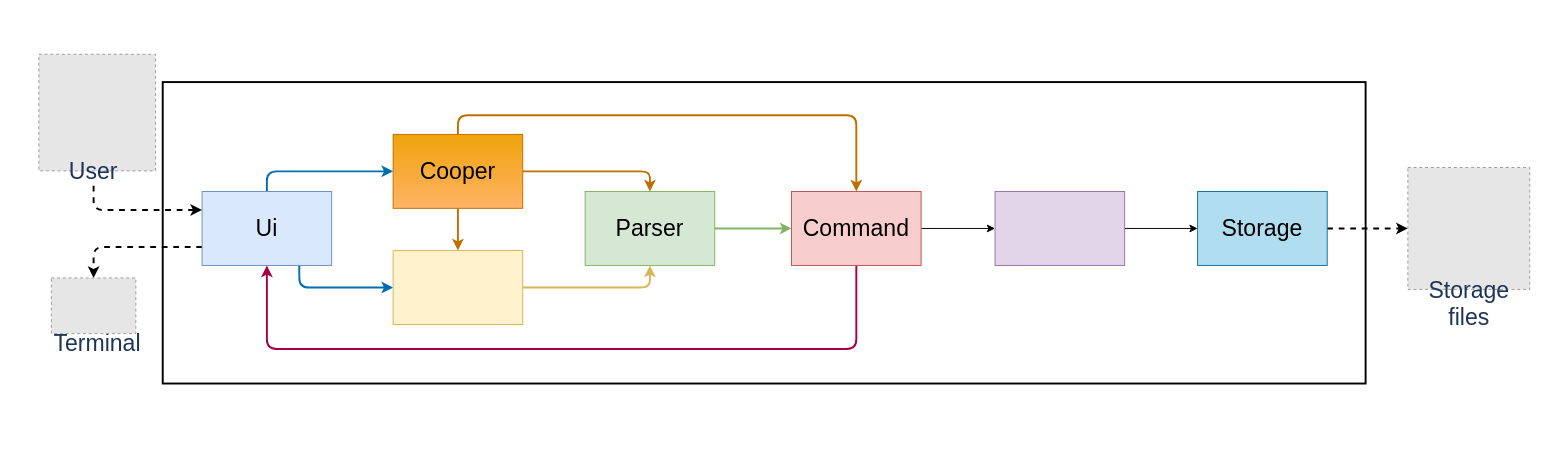
The diagram is 1561 pixels wide and 458 high, and some of its shapes have lost their labels. Grey dashed boxes stand in for pictures. The shapes that lost their labels are listed below. From the top down, each one's centre as x and y in pixels, then its label:
At point 1059,228: "Resources".
At point 457,287: "Verification".
